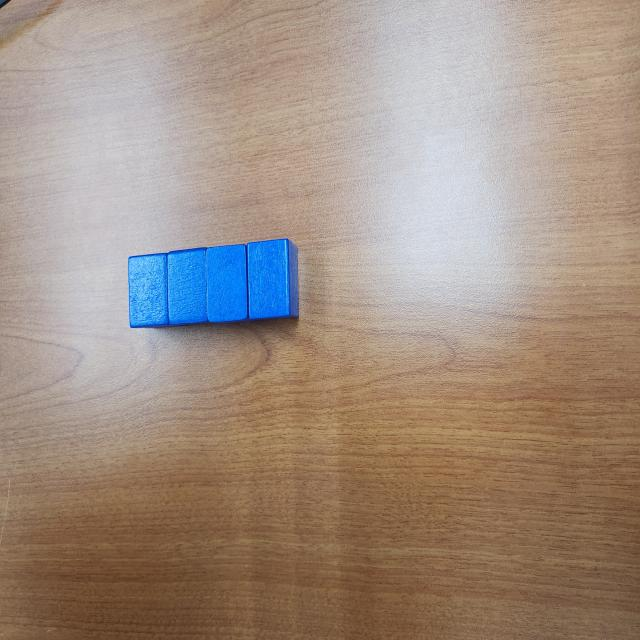blue: (246, 240, 300, 323), (207, 244, 249, 326), (166, 247, 208, 328), (128, 253, 169, 329)
